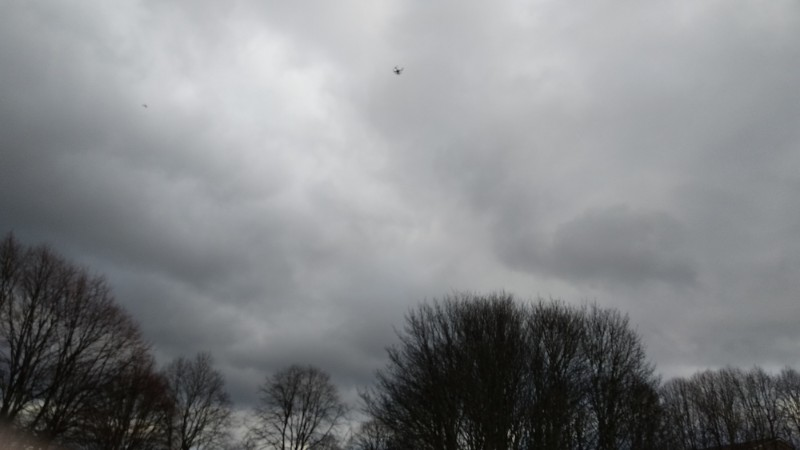drone: (391, 64, 405, 76)
